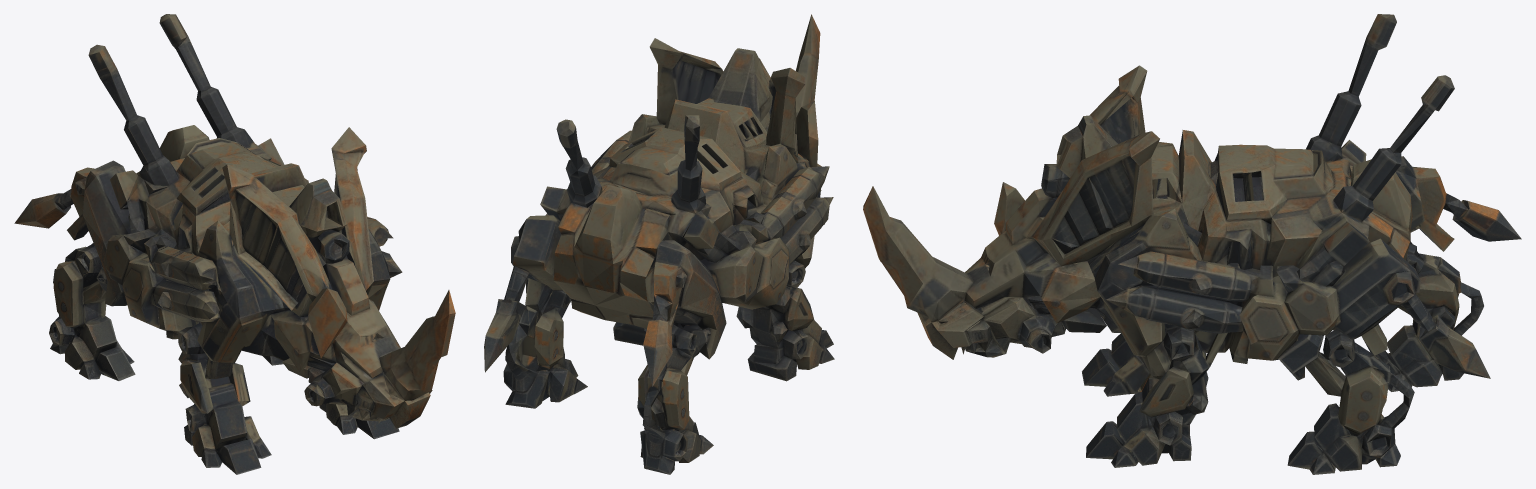
Rendered from rhino_mech_lowpoly.glb.
The picture shows the model from 3 angles, left to right: view 1: azimuth 30°, elevation 25°; view 2: azimuth 150°, elevation 25°; view 3: azimuth 270°, elevation 25°; orthographic projection. The views are drawn at different scales.
Visible parts, largest first — view 1: output_unwrapped; view 2: output_unwrapped; view 3: output_unwrapped.
Boxes of the visible parts, x1,y1,x2,y2 form: output_unwrapped: (14,14,455,474); output_unwrapped: (484,14,834,474); output_unwrapped: (863,14,1521,474).
Size of the model in its own units: 0.8474 by 1.2 by 2.
Materials: 1 (1 with a texture image).
